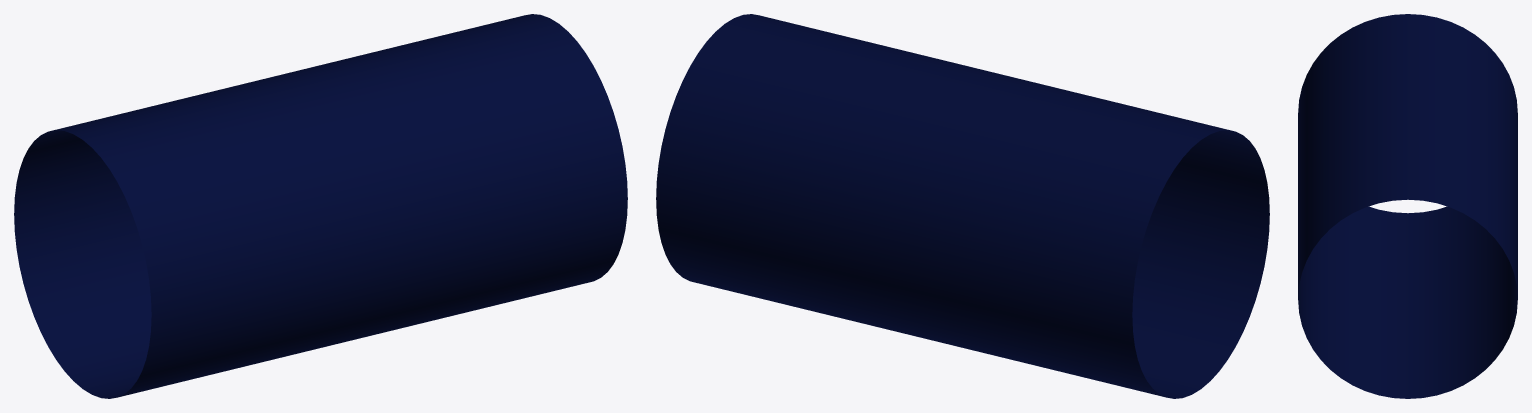
File: pipeStraightWtexture.fbx
The picture shows the model from 3 angles, left to right: view 1: azimuth 30°, elevation 25°; view 2: azimuth 150°, elevation 25°; view 3: azimuth 270°, elevation 25°; orthographic projection. The views are drawn at different scales.
Parts seen in each view (by area): view 1: NurbsPath; view 2: NurbsPath; view 3: NurbsPath.
Boxes of the visible parts, x1,y1,x2,y2 form: NurbsPath: (14,14,627,398); NurbsPath: (656,14,1269,398); NurbsPath: (1298,14,1517,398).
Bounding box in the file's own units: 100 × 50 × 50.
